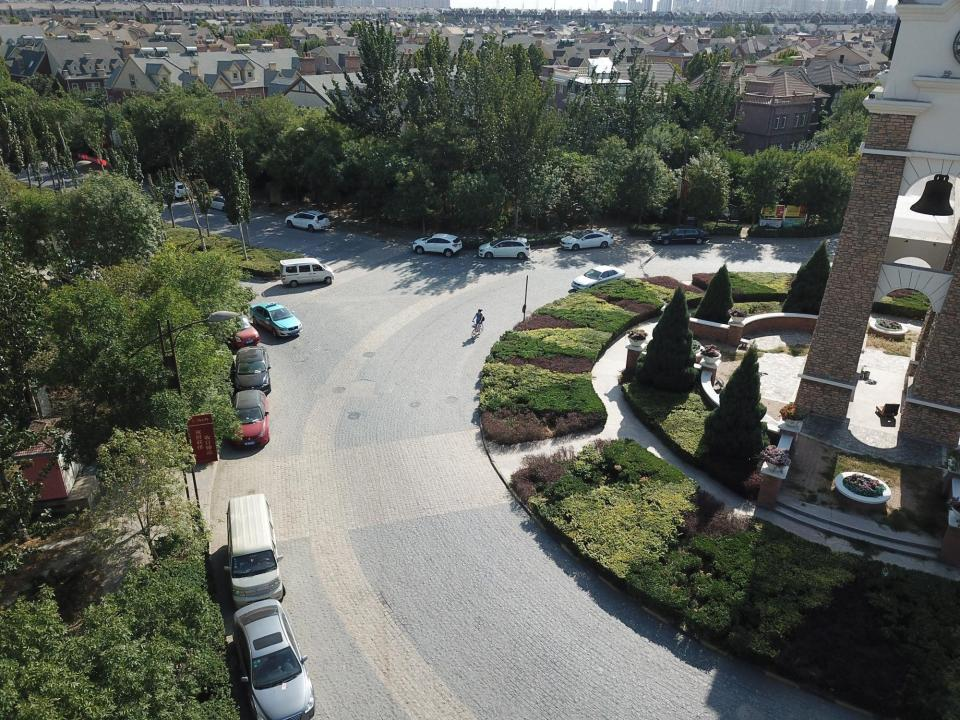car: (230, 598, 316, 720), (231, 390, 269, 448), (248, 300, 303, 338), (232, 346, 272, 398), (212, 310, 260, 348), (572, 265, 625, 294), (650, 224, 710, 246), (559, 229, 614, 252), (412, 233, 462, 257), (478, 236, 530, 258), (284, 209, 330, 232), (203, 195, 242, 213), (155, 181, 191, 200)
van: (223, 492, 287, 606), (279, 257, 335, 287)
